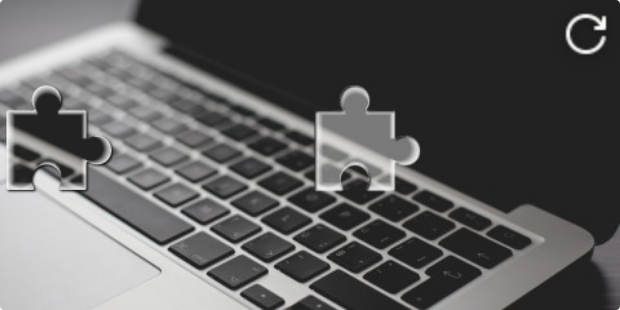target: (315, 85, 419, 191)
